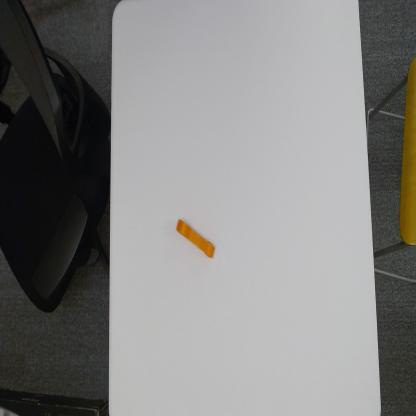Screwdriver: (176, 216, 216, 264)
